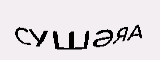А: (128, 21, 148, 44)
С: (14, 26, 30, 48)
У: (27, 25, 51, 48)
Ш: (51, 26, 91, 52)
Я: (114, 22, 127, 45)
Ә: (91, 27, 113, 50)
